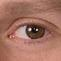eye: (26, 26, 44, 39)
